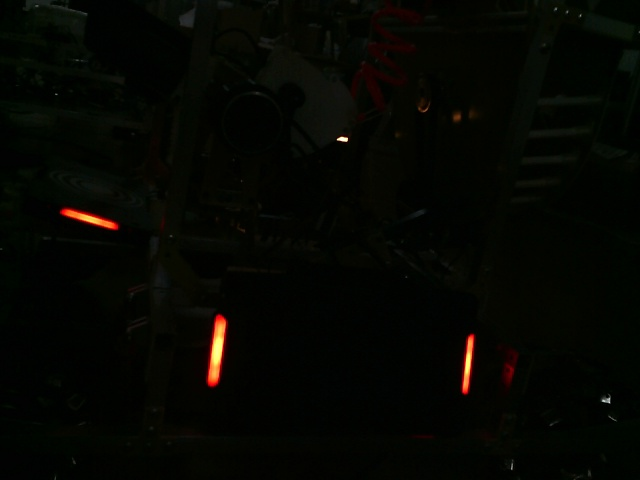lamp: (206, 312, 229, 389), (462, 335, 474, 395)
